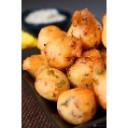bonda: (39, 26, 67, 67), (70, 11, 100, 46), (73, 52, 105, 84), (35, 69, 70, 98)
